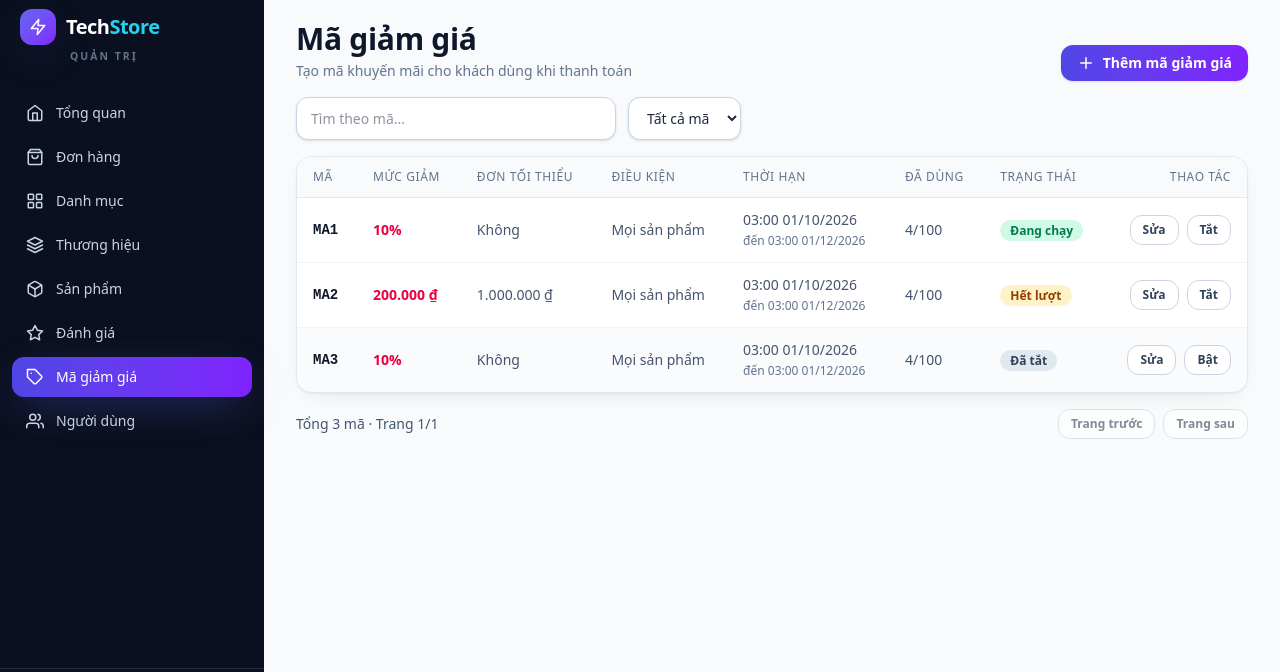
Điều kiện phụ: điểm tối thiểu và phạm vi áp dụng (US-24) › sản phẩm đã chọn hiện "Đã chọn" và không thêm hai lần; bỏ được bằng nút x
The width and height of the screenshot is (1280, 672).
Expected: the table is shown, x1=297 y1=157 x2=1247 y2=392
Click the button "Thêm mã giảm giá".
click(1154, 63)  # box x1=1061 y1=45 x2=1248 y2=81
(page scrolled)
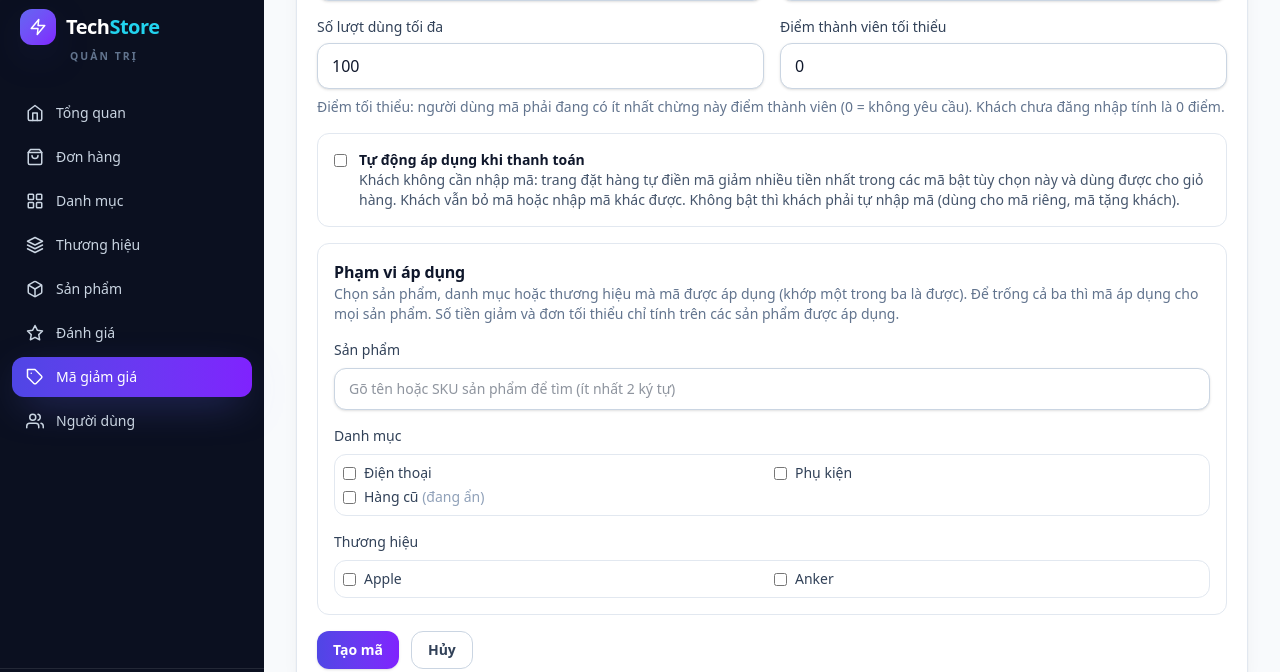
Type "ip" into the search field labelled "Sản phẩm".
click(772, 389); type("ip")  # box x1=334 y1=368 x2=1210 y2=410
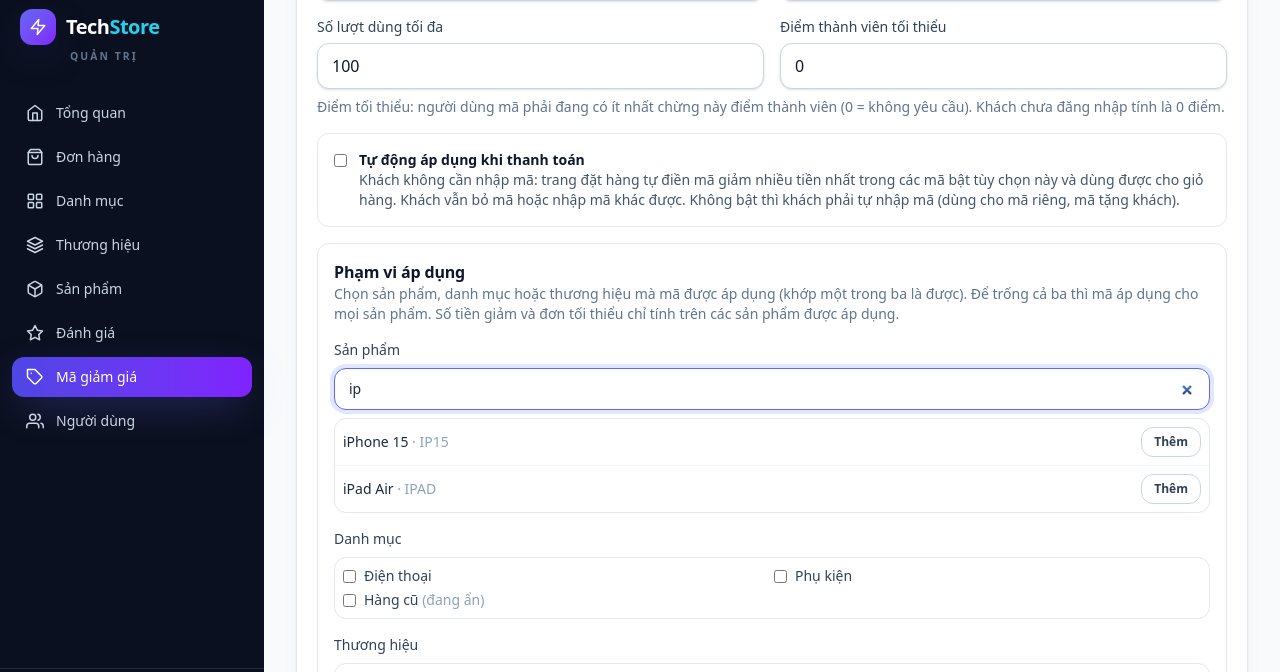
Click the button with aria-label "Thêm iPhone 15".
click(1171, 442)  # box x1=1141 y1=427 x2=1201 y2=457
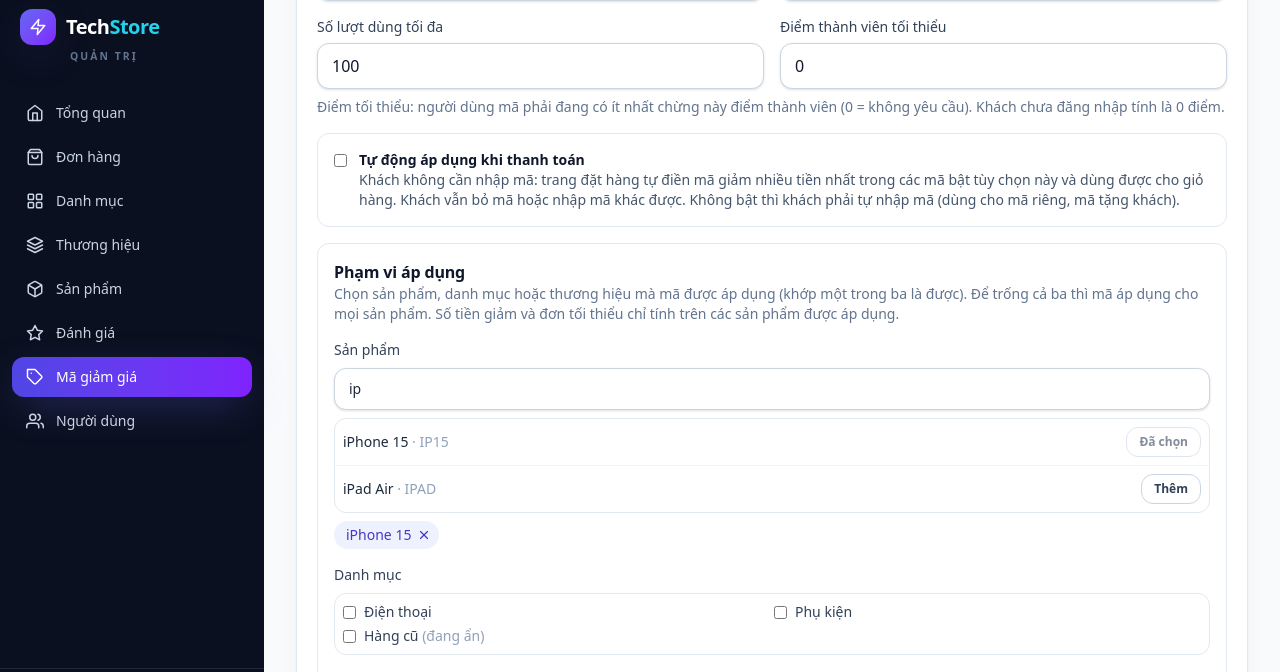
Result: the button with aria-label "Thêm iPhone 15" is disabled at x1=1126 y1=427 x2=1201 y2=457
Result: the button with aria-label "Thêm iPhone 15" reads "Đã chọn" at x1=1126 y1=427 x2=1201 y2=457
Click the button named "Bỏ iPhone 15".
click(424, 535)  # box x1=415 y1=526 x2=433 y2=544
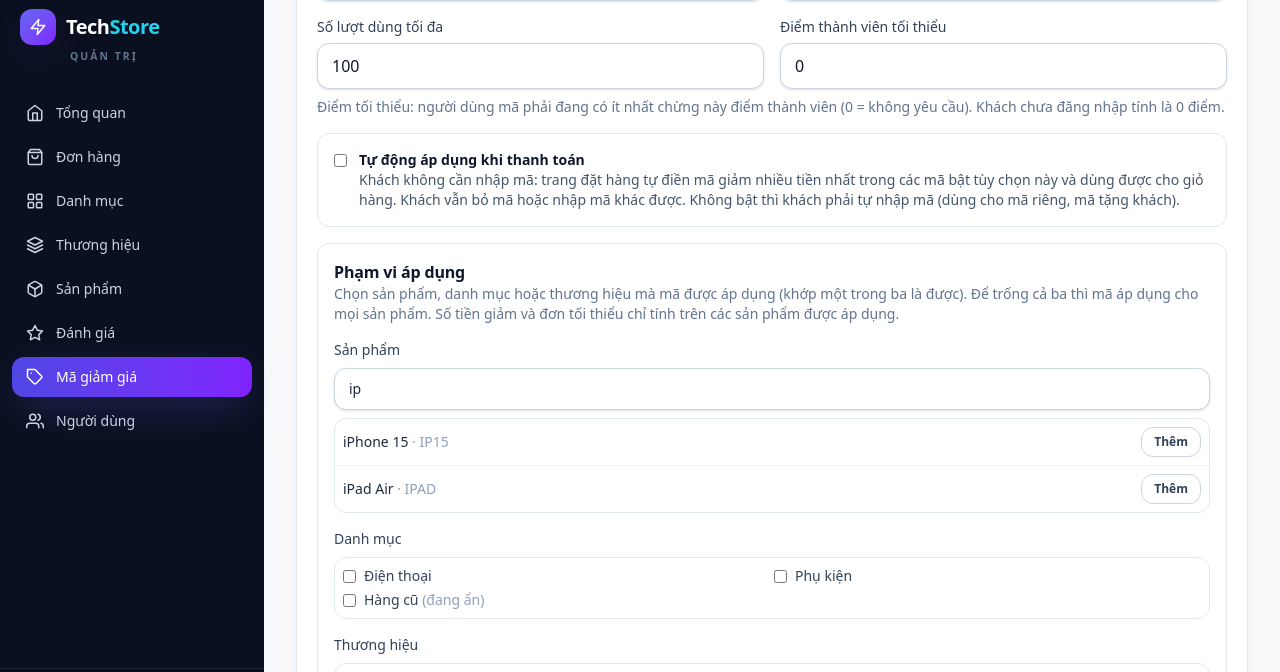
Result: the button with aria-label "Thêm iPhone 15" is enabled at x1=1141 y1=427 x2=1201 y2=457
